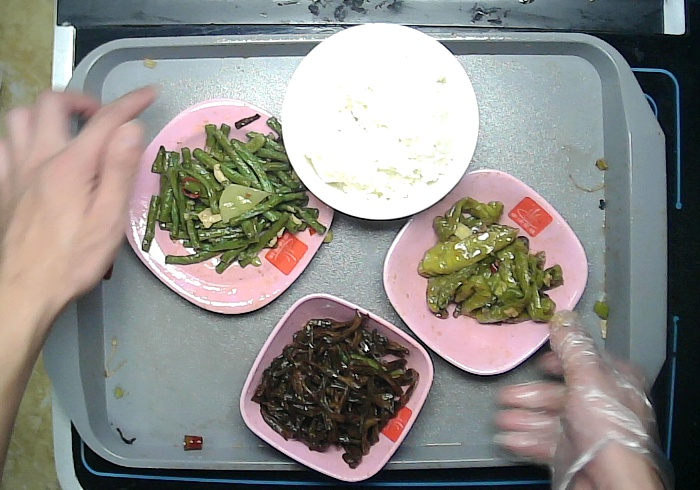SHKJ-Fan_Wan: (275, 20, 481, 224)
SHKJ-Fen_Se_Cai_Die: (380, 167, 592, 379)
SHKJ-Fen_Se_Si_Fang_Cai_Die: (115, 96, 335, 318)
SHKJ-Fen_Se_Xiao_Fang_Die: (237, 290, 437, 486)
